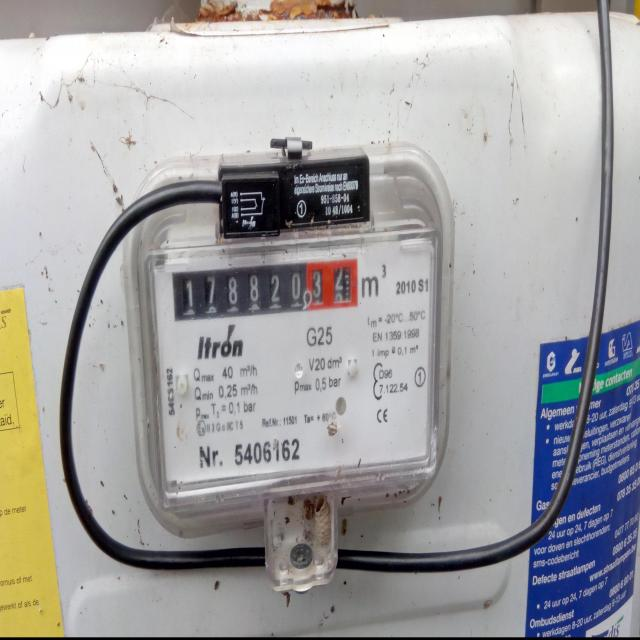gaz_meter: (140, 244, 437, 484)
indication: (172, 259, 358, 320)
